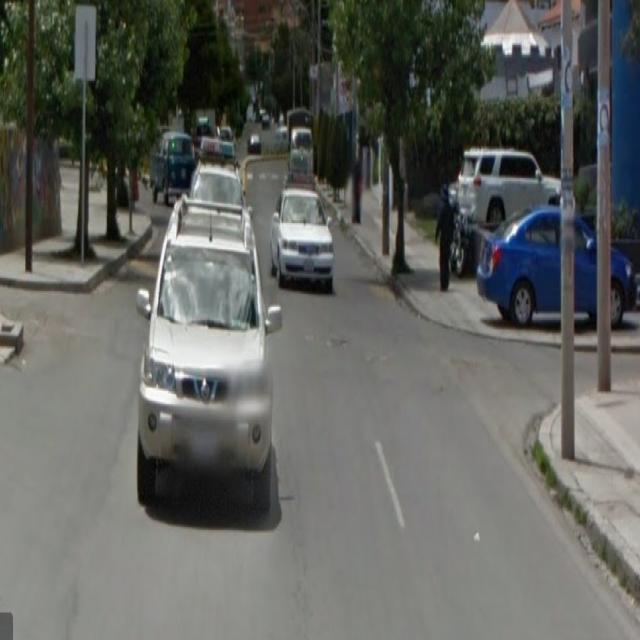cars: (154, 188, 274, 480), (481, 201, 633, 320), (270, 185, 332, 282)
